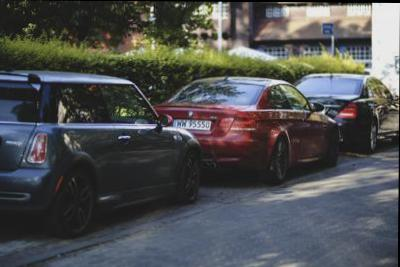License_Plate: (173, 114, 212, 132)
